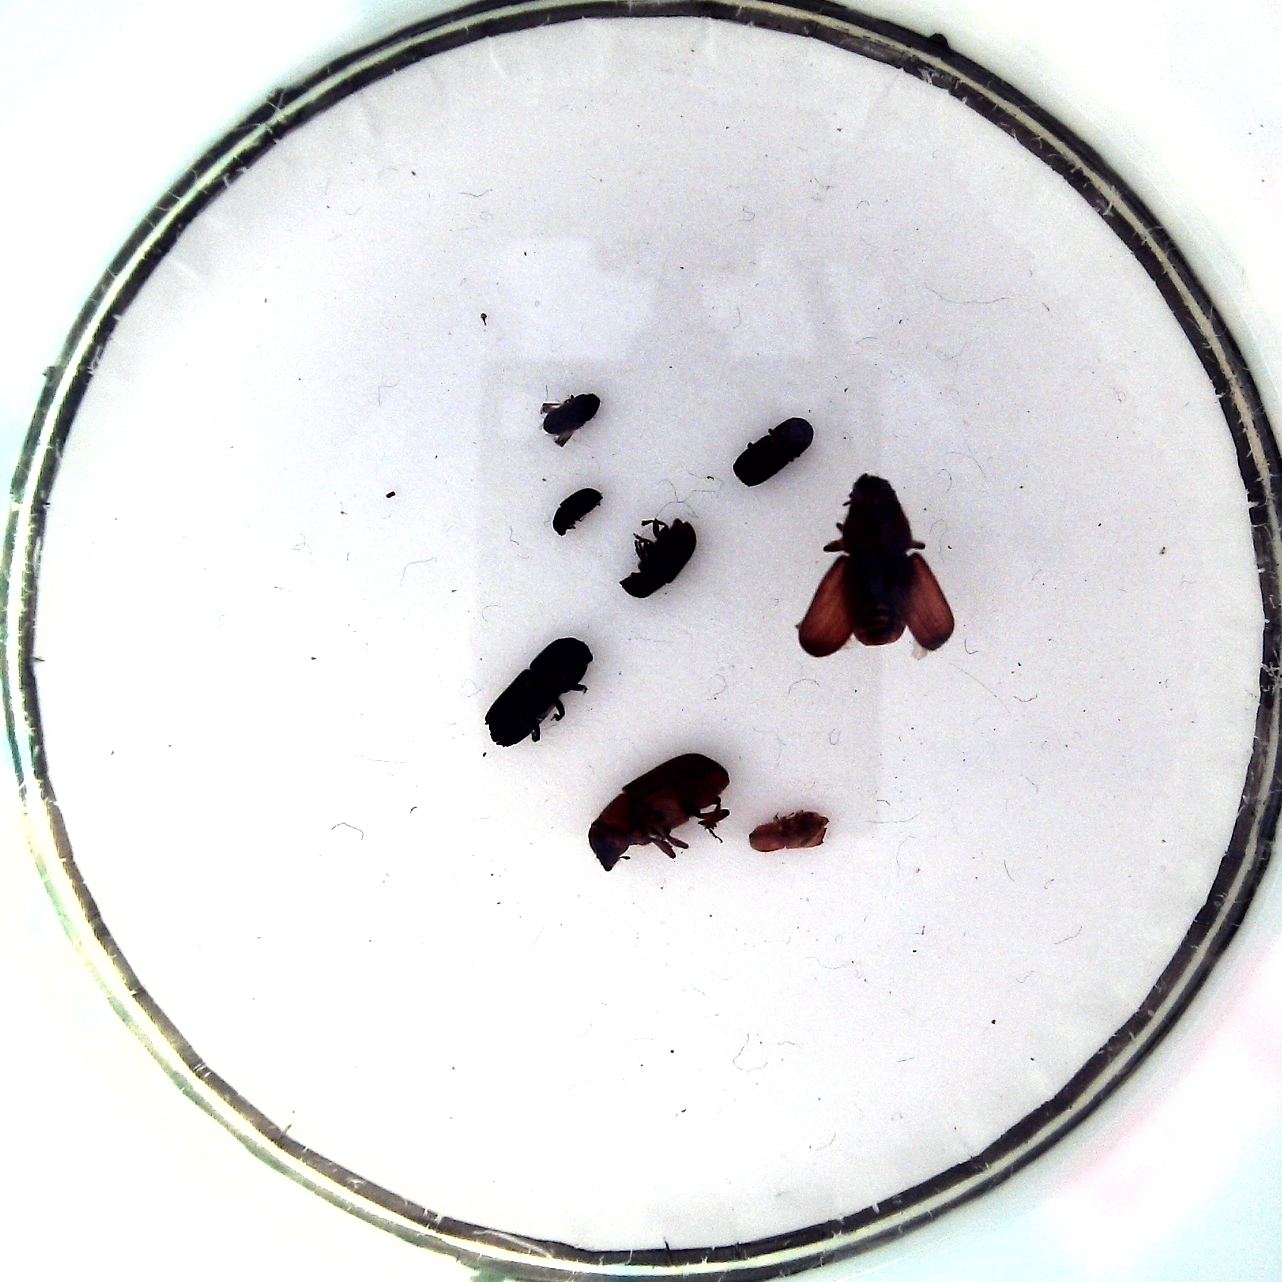Boerner: (484, 636, 593, 749)
Leconte: (587, 753, 728, 872), (841, 473, 915, 646)
acuminatus: (542, 394, 601, 436)
armandi: (619, 518, 697, 598)
coleoptera: (748, 810, 828, 852), (553, 487, 603, 535)
linnaeus: (733, 417, 815, 487)
